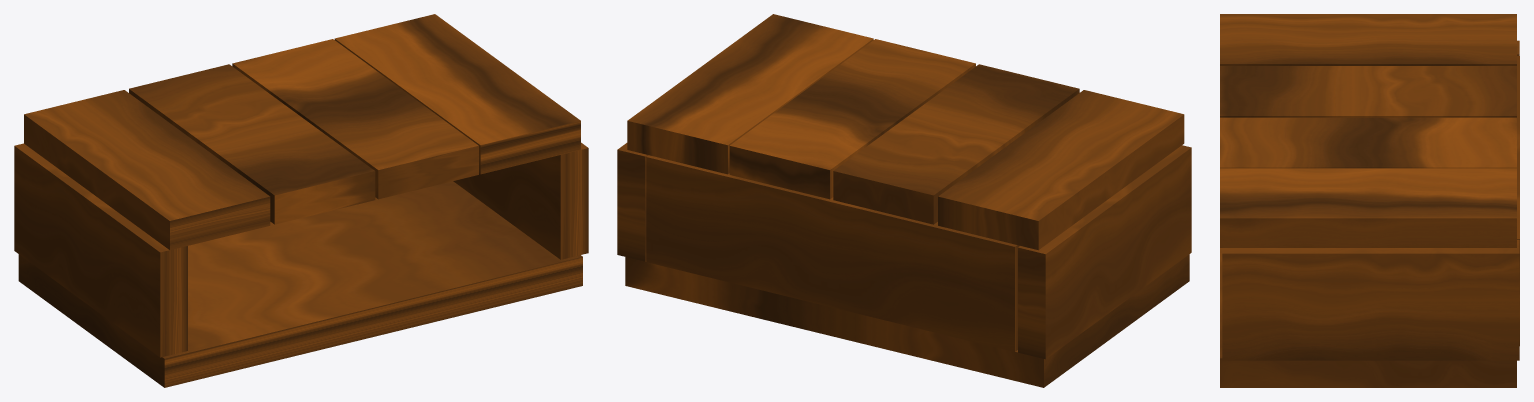
Rendered from wooden platform.fbx.
The picture shows the model from 3 angles, left to right: view 1: azimuth 30°, elevation 25°; view 2: azimuth 150°, elevation 25°; view 3: azimuth 270°, elevation 25°; orthographic projection.
Visible parts, largest first — view 1: pCube12; view 2: pCube12; view 3: pCube12.
Part boxes in pixels (box(x1,y1,x2,y2)): pCube12: box(14, 14, 588, 387); pCube12: box(617, 14, 1191, 387); pCube12: box(1220, 14, 1519, 387).
Size of the model in its own units: 75.11 by 27.74 by 44.71.
